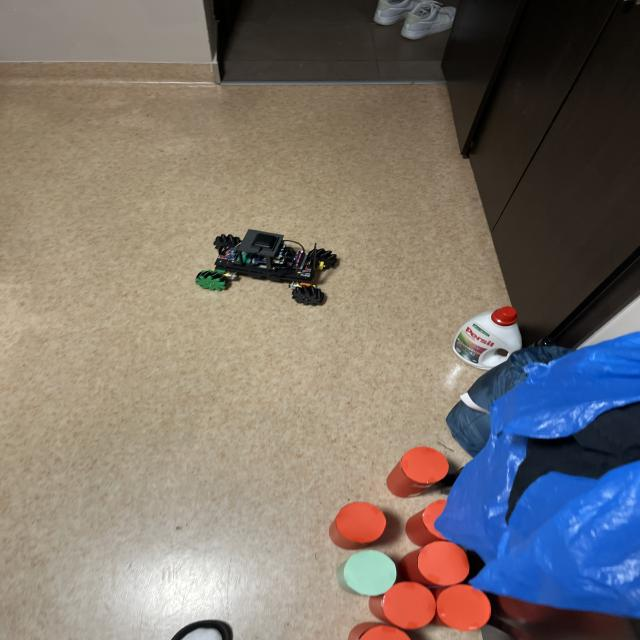robot: (196, 229, 339, 306)
